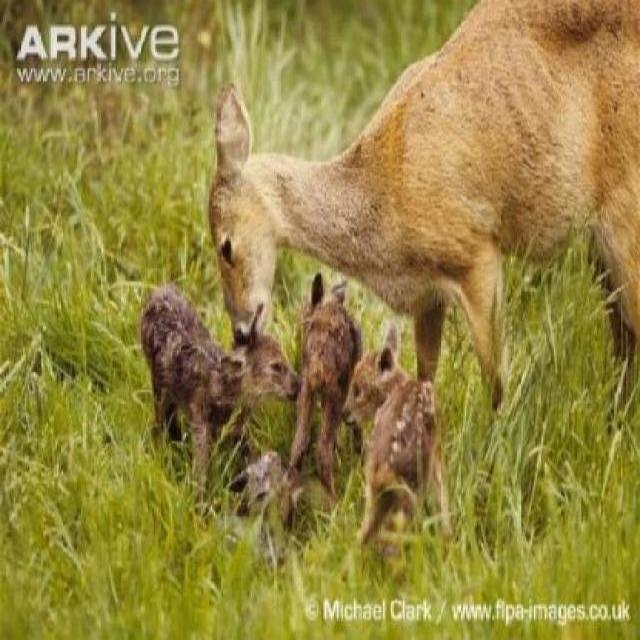deer: (208, 0, 640, 400), (102, 270, 295, 461), (339, 315, 452, 577), (282, 271, 364, 502)
